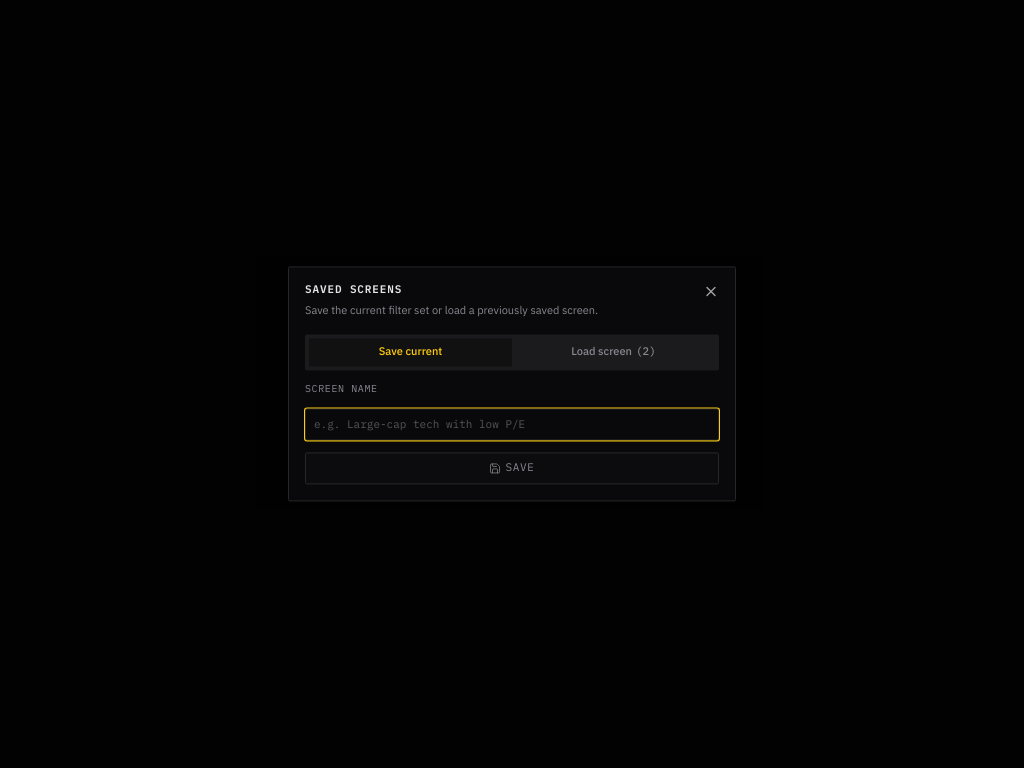
SavedScreensDialog — Load tab › lists saved screens with a Load button each
Click the tab "Load screen (2)": (614, 353) [512, 339, 715, 366]
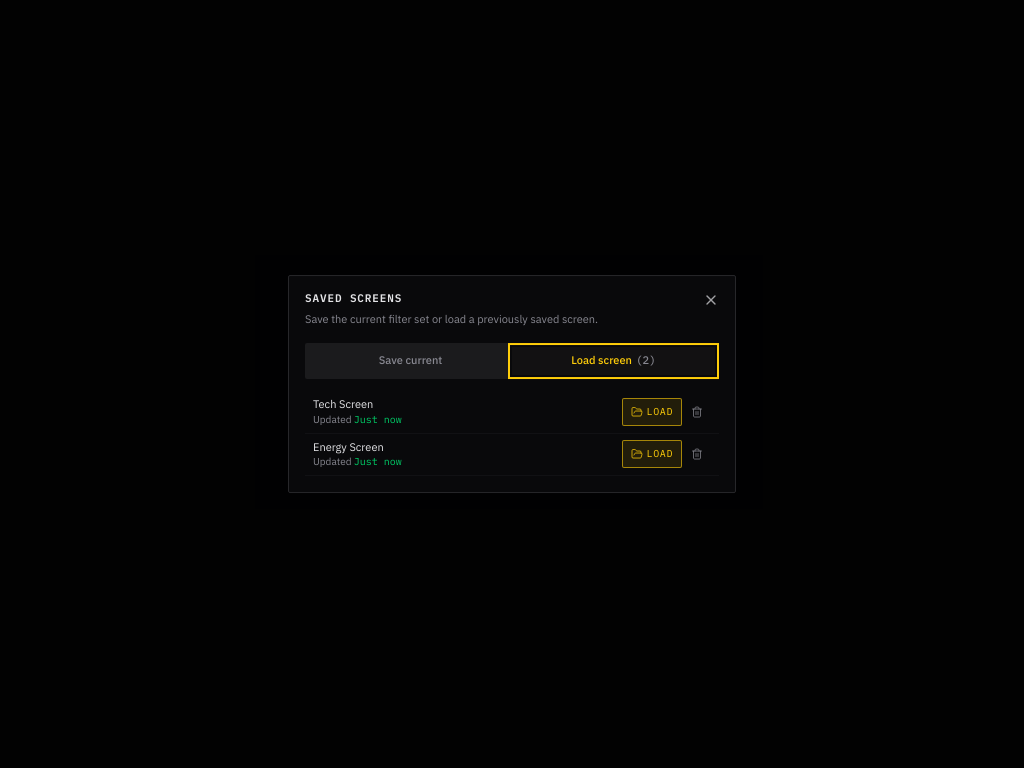
Expected: the text "Tech Screen" is shown, [313, 397, 373, 411]
Expected: the text "Energy Screen" is shown, [313, 440, 384, 454]
Expected: the number of buttons "Load" is 2, [622, 398, 682, 426]; [622, 440, 682, 468]
